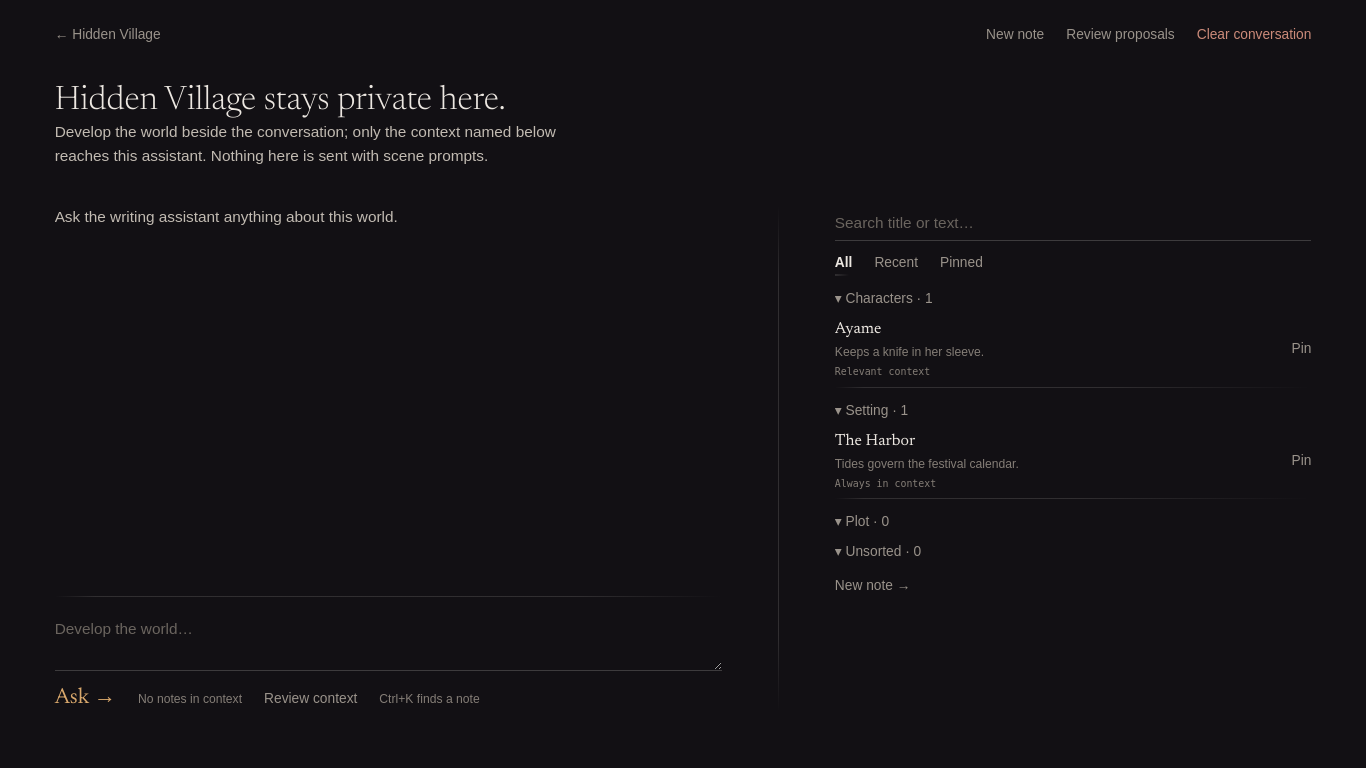
Test case: what the assistant will receive › lists each note with why it was chosen
The image size is (1366, 768).
Click the button "Review context".
click(311, 698)  # box [264,690,357,707]
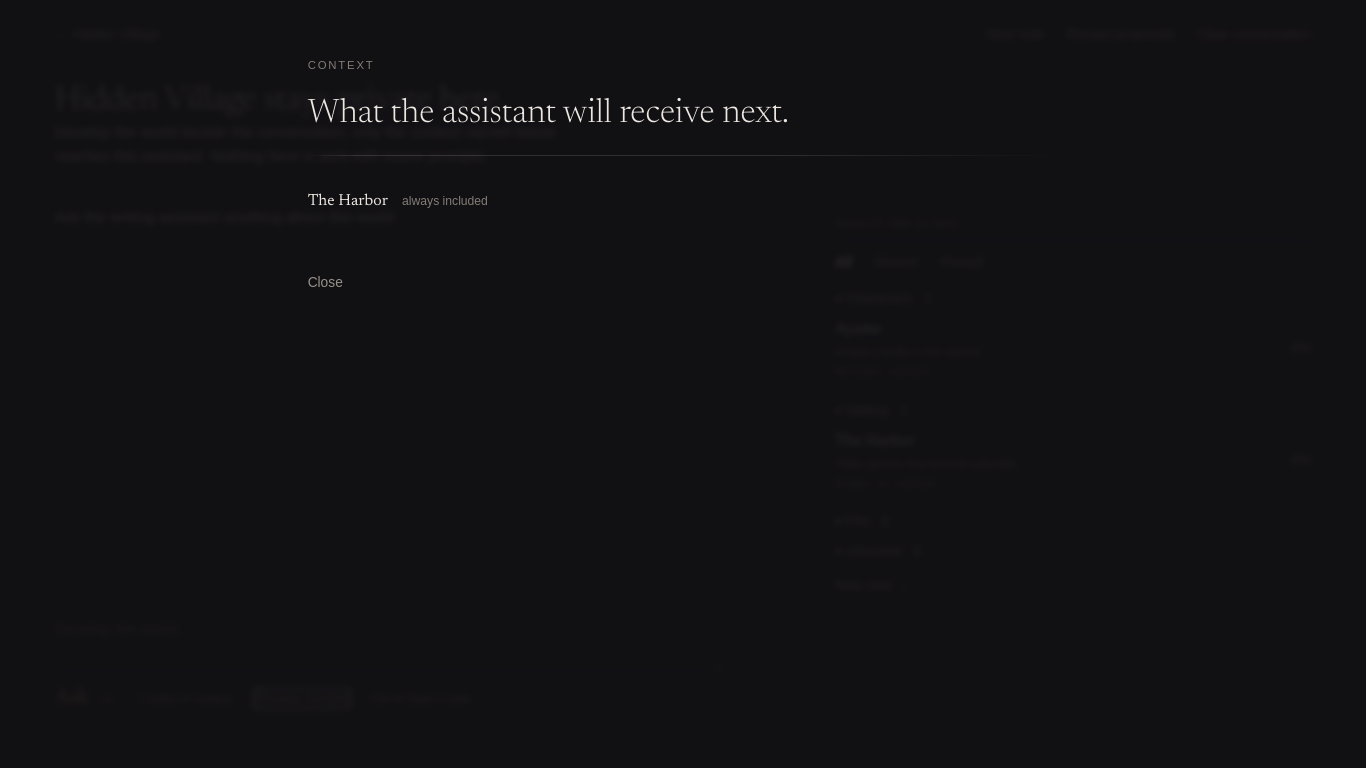
Now the text "The Harbor" is shown, box [308,189,388,215]
Now the text "always included" is shown, box [402,192,488,212]
